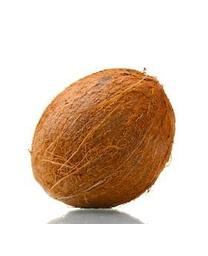coconut: (24, 66, 180, 212)
